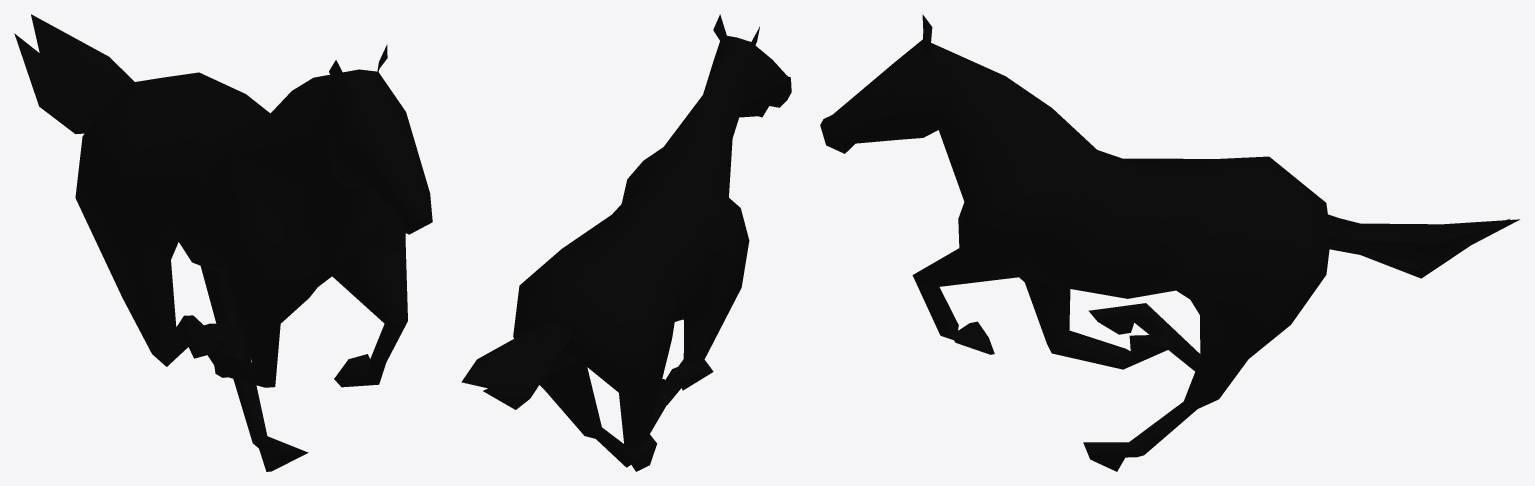
File: ps2_save-icons_shadowof-the-colossus.glb
The picture shows the model from 3 angles, left to right: view 1: azimuth 30°, elevation 25°; view 2: azimuth 150°, elevation 25°; view 3: azimuth 270°, elevation 25°; orthographic projection. The views are drawn at different scales.
Parts seen in each view (by area): view 1: SHADOWOF THE COLOSSUS; view 2: SHADOWOF THE COLOSSUS; view 3: SHADOWOF THE COLOSSUS.
Boxes of the visible parts, box(x1,y1,x2,y2) form: SHADOWOF THE COLOSSUS: box(14, 14, 432, 471); SHADOWOF THE COLOSSUS: box(461, 14, 791, 471); SHADOWOF THE COLOSSUS: box(820, 14, 1519, 471).
Size of the model in its own units: 0.8787 by 2.6 by 3.75.
1 material, 1 textured.
